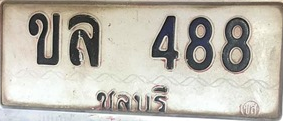txt02: (26, 10, 62, 68)
txt31: (65, 11, 103, 70)
